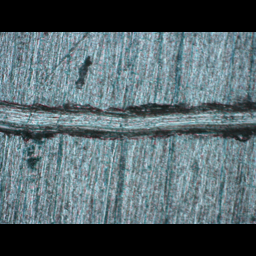d: (0, 95, 254, 143)
